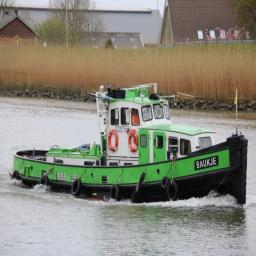tugboat: (8, 79, 250, 220)
